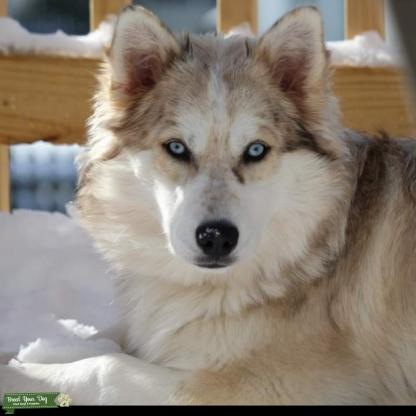dog: (70, 5, 416, 414)
